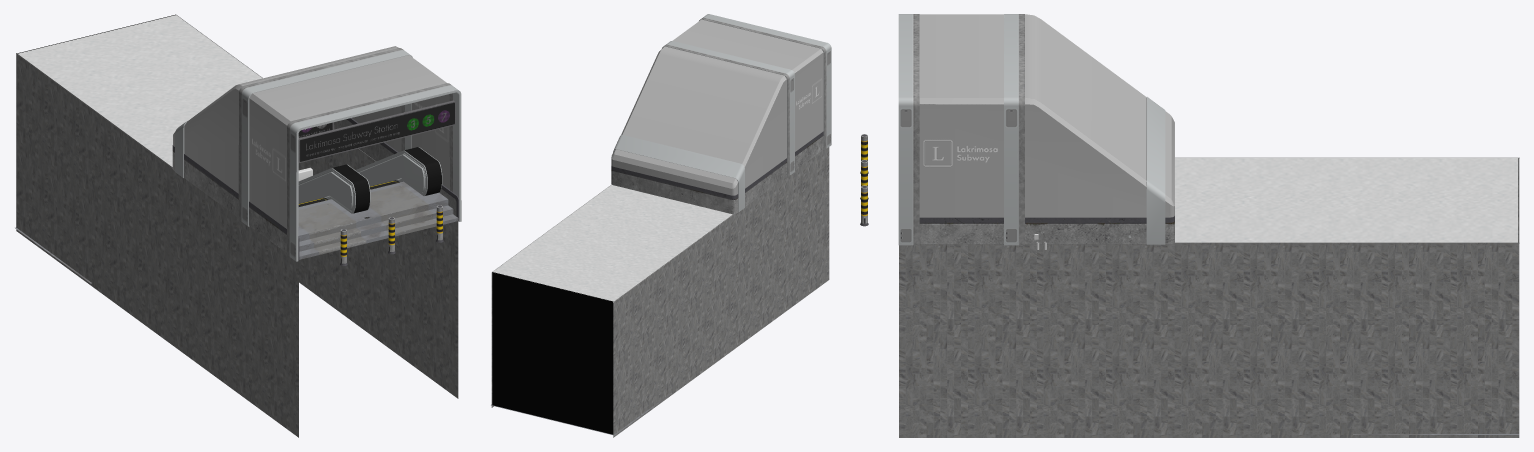
3 renders of one model, left to right at view 1: azimuth 30°, elevation 25°; view 2: azimuth 150°, elevation 25°; view 3: azimuth 270°, elevation 25°, orthographic. The views are drawn at different scales.
Parts seen in each view (by area): view 1: Wall, Floor, Glass, Opora_low, Steps_low, Screens_low.001, Fundament, HandlerLeft_low.001, Handler_Center_low, Stolb_low, rubber.002, rubber.001 (+1 smaller); view 2: Wall, Glass, Black, Floor, Fundament, Opora_low, Opora_low.001; view 3: Wall, Glass, Floor, Opora_low, Fundament, Opora_low.001, Stolb_low.
Boxes of the visible parts, <box> form: Wall: <box>16,15,458,437</box>; Floor: <box>18,15,262,166</box>; Glass: <box>173,46,449,228</box>; Opora_low: <box>238,48,461,261</box>; Steps_low: <box>298,181,458,259</box>; Screens_low.001: <box>298,100,455,162</box>; Fundament: <box>172,118,459,260</box>; HandlerLeft_low.001: <box>355,150,427,196</box>; Handler_Center_low: <box>298,164,370,213</box>; Stolb_low: <box>340,205,443,265</box>; rubber.002: <box>404,147,441,195</box>; rubber.001: <box>332,164,369,213</box>; Wall: <box>491,147,829,437</box>; Glass: <box>611,19,823,195</box>; Black: <box>492,272,613,434</box>; Floor: <box>493,185,732,301</box>; Fundament: <box>611,131,823,214</box>; Opora_low: <box>662,14,831,177</box>; Opora_low.001: <box>613,135,744,212</box>; Wall: <box>899,158,1519,437</box>; Glass: <box>919,14,1174,217</box>; Floor: <box>1175,158,1517,242</box>; Opora_low: <box>898,14,1024,245</box>; Fundament: <box>919,216,1174,244</box>; Opora_low.001: <box>1146,97,1165,244</box>; Stolb_low: <box>860,134,868,226</box>.
Size of the model in its own units: 5.6 by 8.51 by 14.7.
4 materials, 2 textured.
